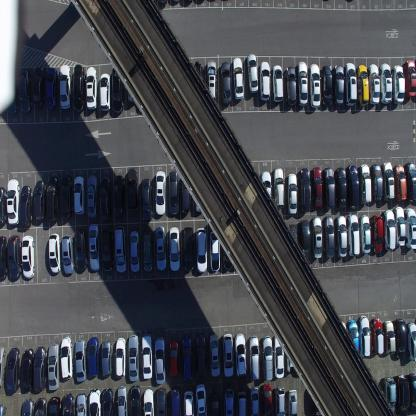car: (6, 235, 22, 280), (5, 346, 20, 393), (58, 337, 73, 382), (18, 68, 33, 113), (6, 178, 20, 225), (72, 64, 85, 114), (46, 175, 60, 221), (33, 345, 47, 391), (114, 225, 127, 274), (74, 227, 88, 272), (47, 344, 60, 391), (286, 331, 300, 374), (358, 162, 372, 205), (154, 335, 166, 385), (234, 332, 247, 378), (21, 347, 34, 393), (88, 222, 100, 271), (86, 174, 99, 219), (60, 174, 73, 219), (21, 234, 34, 279), (181, 336, 193, 384), (128, 334, 140, 382), (196, 226, 208, 274), (111, 66, 123, 114), (87, 335, 100, 379), (100, 228, 113, 272), (347, 213, 360, 257), (182, 225, 194, 272), (248, 334, 260, 381), (345, 61, 357, 108), (382, 376, 396, 416), (19, 185, 32, 228), (346, 318, 359, 361), (45, 67, 58, 110), (195, 334, 207, 380), (141, 334, 153, 380), (260, 170, 272, 216), (168, 226, 180, 272), (154, 225, 166, 271), (99, 176, 111, 222), (261, 334, 273, 380), (59, 64, 71, 110), (296, 60, 308, 106), (298, 167, 310, 213), (61, 234, 74, 276), (48, 232, 61, 274), (356, 64, 369, 106), (383, 208, 396, 250), (219, 60, 231, 105), (74, 339, 86, 384), (126, 167, 138, 212), (222, 333, 234, 378), (347, 164, 359, 209), (395, 374, 408, 415), (392, 64, 406, 102), (192, 60, 203, 108), (115, 336, 127, 380), (232, 56, 244, 100), (208, 334, 220, 378), (127, 59, 139, 103), (273, 166, 285, 210), (286, 172, 298, 216), (323, 166, 335, 210), (335, 214, 347, 258), (310, 215, 322, 259), (222, 226, 234, 270), (271, 63, 284, 103), (311, 166, 323, 209), (371, 316, 384, 355), (86, 65, 97, 111), (34, 179, 46, 221), (32, 66, 44, 108), (380, 62, 392, 104), (168, 170, 179, 215), (309, 63, 320, 108), (394, 164, 407, 202), (394, 318, 406, 359), (246, 53, 258, 94), (404, 58, 416, 99), (404, 207, 416, 248), (209, 229, 220, 273), (195, 169, 206, 213), (114, 174, 125, 218), (359, 314, 370, 358), (333, 63, 344, 107), (335, 165, 346, 209), (286, 222, 297, 266), (168, 338, 180, 378), (101, 338, 113, 378), (99, 72, 111, 112), (6, 75, 18, 115), (371, 214, 383, 254), (141, 178, 152, 221), (321, 64, 332, 107), (369, 63, 380, 106), (73, 175, 85, 214), (142, 230, 153, 272), (405, 162, 416, 204), (394, 205, 405, 247), (300, 218, 310, 264), (383, 162, 395, 200), (285, 66, 296, 107), (206, 59, 216, 104), (155, 170, 165, 215), (274, 334, 284, 379), (130, 229, 140, 273), (180, 169, 190, 213), (259, 60, 270, 100), (359, 214, 370, 254), (324, 215, 334, 259), (372, 163, 383, 202), (261, 382, 273, 415), (406, 322, 416, 361), (195, 383, 207, 415), (384, 320, 395, 354), (274, 386, 286, 416), (129, 385, 141, 415), (116, 386, 128, 416), (88, 388, 101, 415), (170, 387, 182, 415), (102, 387, 114, 415), (223, 388, 235, 415), (143, 388, 155, 415), (0, 235, 7, 280), (182, 389, 194, 415), (408, 371, 415, 415), (61, 393, 75, 415), (249, 386, 259, 416), (156, 388, 167, 415), (0, 187, 7, 227), (236, 390, 247, 415), (288, 389, 298, 415), (76, 392, 87, 415), (208, 394, 220, 415), (34, 397, 48, 415), (0, 346, 6, 388), (48, 396, 61, 415), (21, 397, 34, 415), (0, 403, 7, 415)
